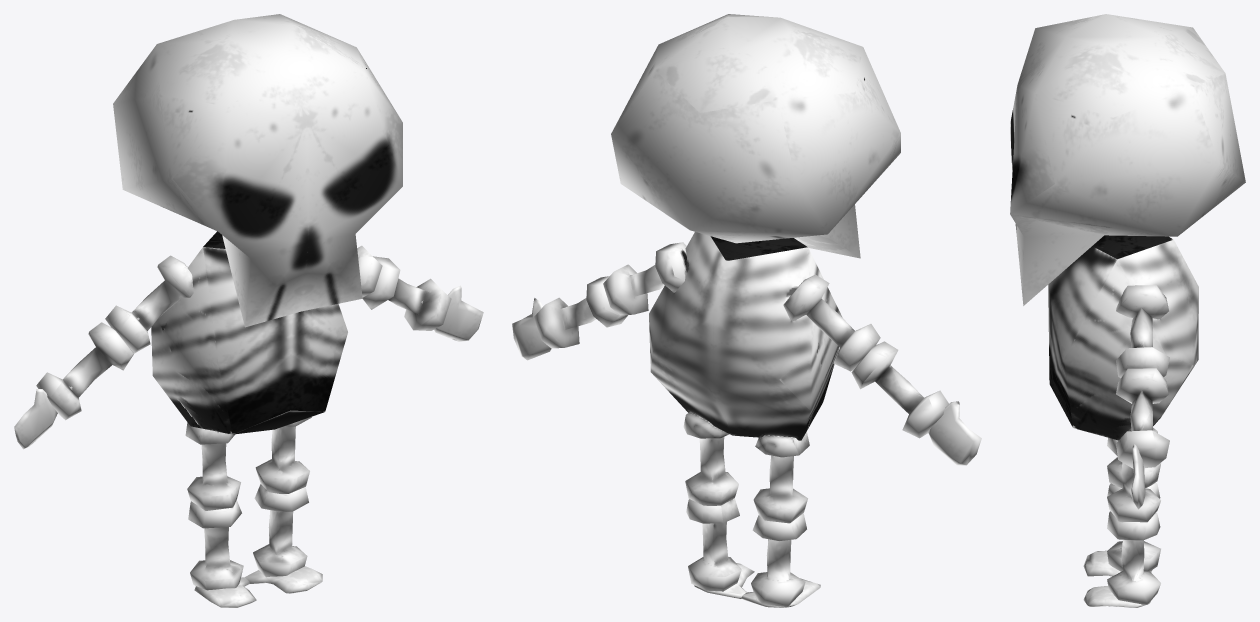
The model's file is Skeleton.obj.
3 views of the same model, side by side, from view 1: azimuth 30°, elevation 25°; view 2: azimuth 150°, elevation 25°; view 3: azimuth 270°, elevation 25° (orthographic).
Visible parts, largest first — view 1: Cube.001_Cube.002; view 2: Cube.001_Cube.002; view 3: Cube.001_Cube.002.
Boxes of the visible parts, <box> form: Cube.001_Cube.002: <box>14,14,483,607</box>; Cube.001_Cube.002: <box>512,14,981,607</box>; Cube.001_Cube.002: <box>1010,14,1245,607</box>.
Bounding box in the file's own units: 3.87 × 4.42 × 1.69.
